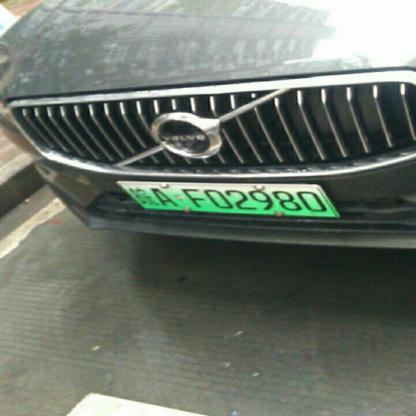lp: (117, 181, 340, 216)
